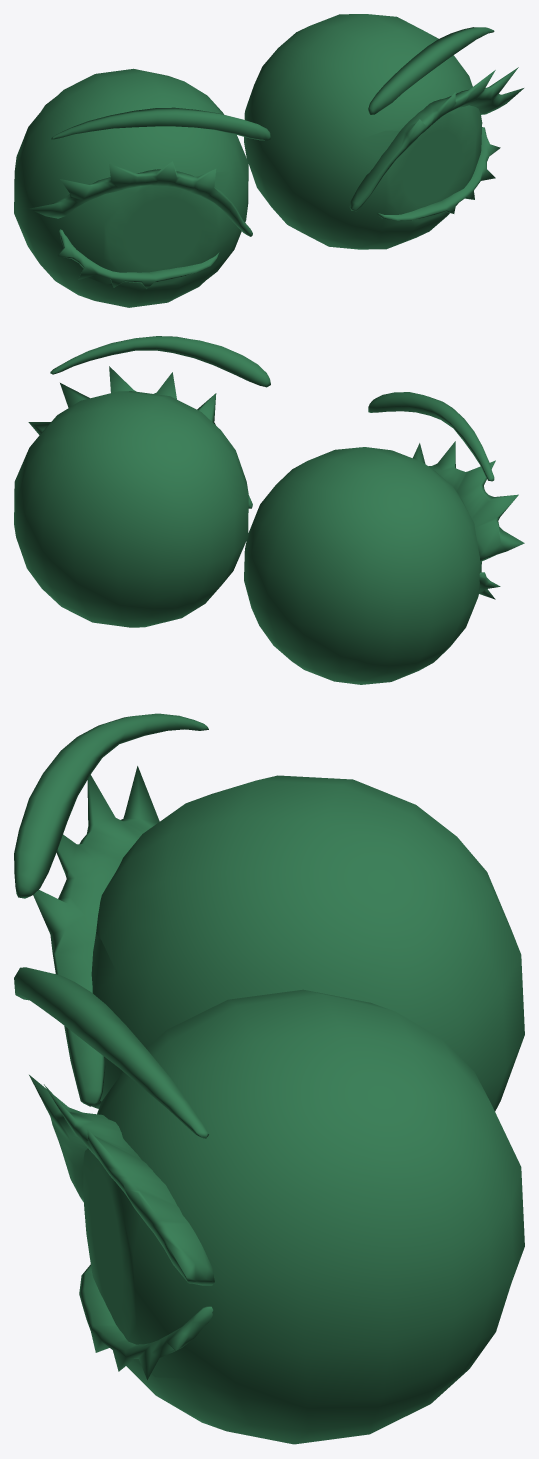
File: f_eyes_01.fbx
3 renders of one model, top to bottom at view 1: azimuth 30°, elevation 25°; view 2: azimuth 150°, elevation 25°; view 3: azimuth 270°, elevation 25°, orthographic. The views are drawn at different scales.
Parts seen in each view (by area): view 1: f_eyes_01; view 2: f_eyes_01; view 3: f_eyes_01.
Boxes of the visible parts, x1,y1,x2,y2 form: f_eyes_01: (14, 14, 523, 307); f_eyes_01: (14, 336, 524, 684); f_eyes_01: (14, 713, 524, 1444).
Size of the model in its own units: 13.92 by 6.17 by 6.5.
